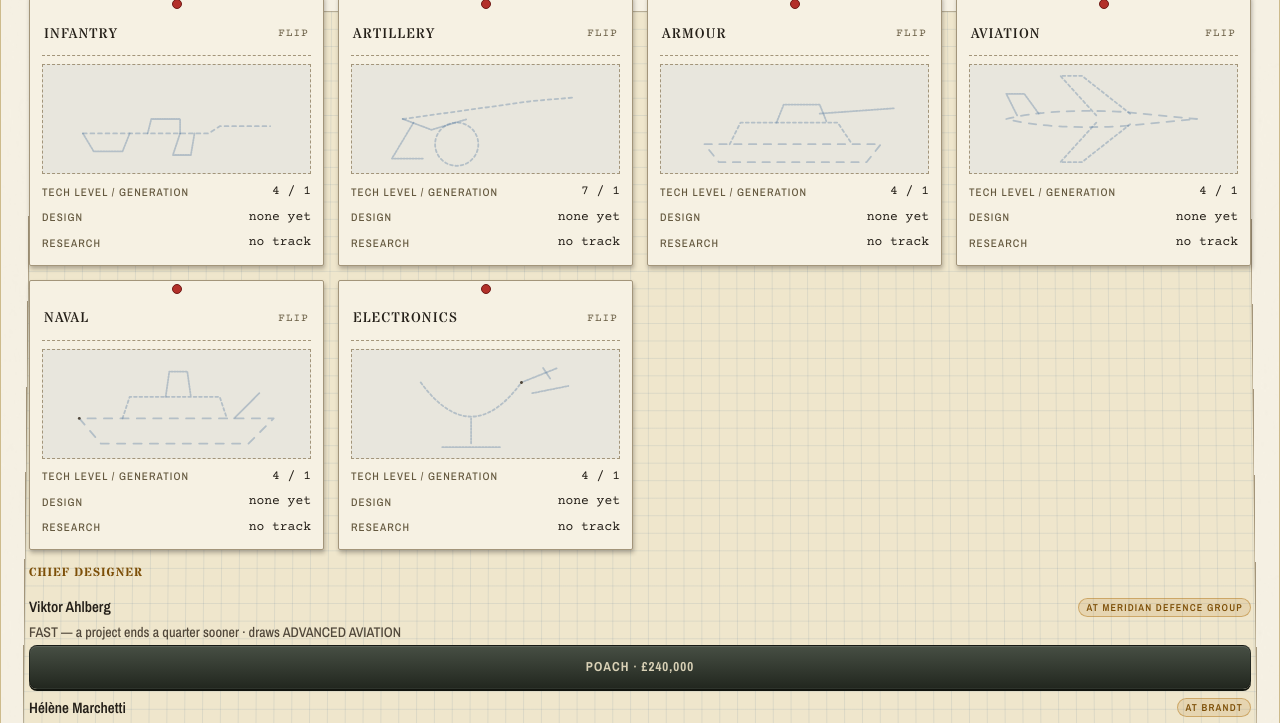
Test: del F på ritbordet (P136) › spärrad civil linje visar orsaken
Click the button "ELECTRONICS FLIP" at (406, 318), box [351,296,620,340]
(page scrolled)
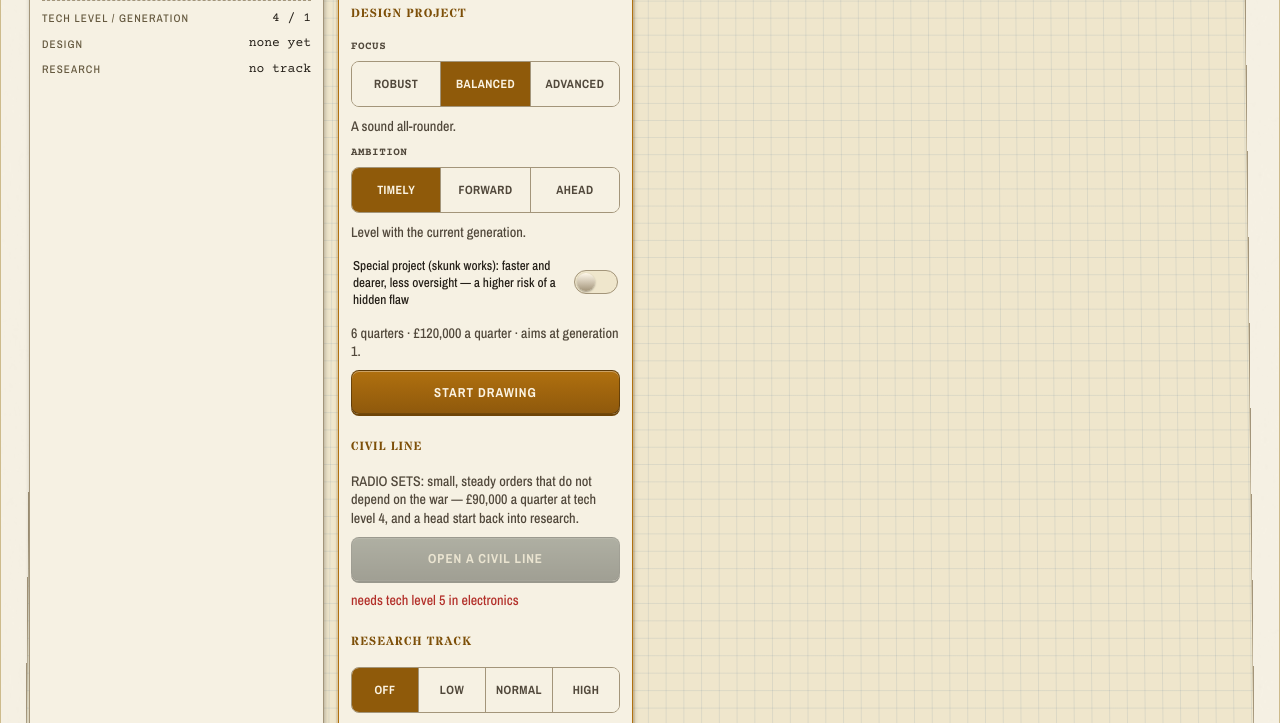
Expected: the button with test id "drawing-civil-electronics" is disabled, [351,537,620,581]
